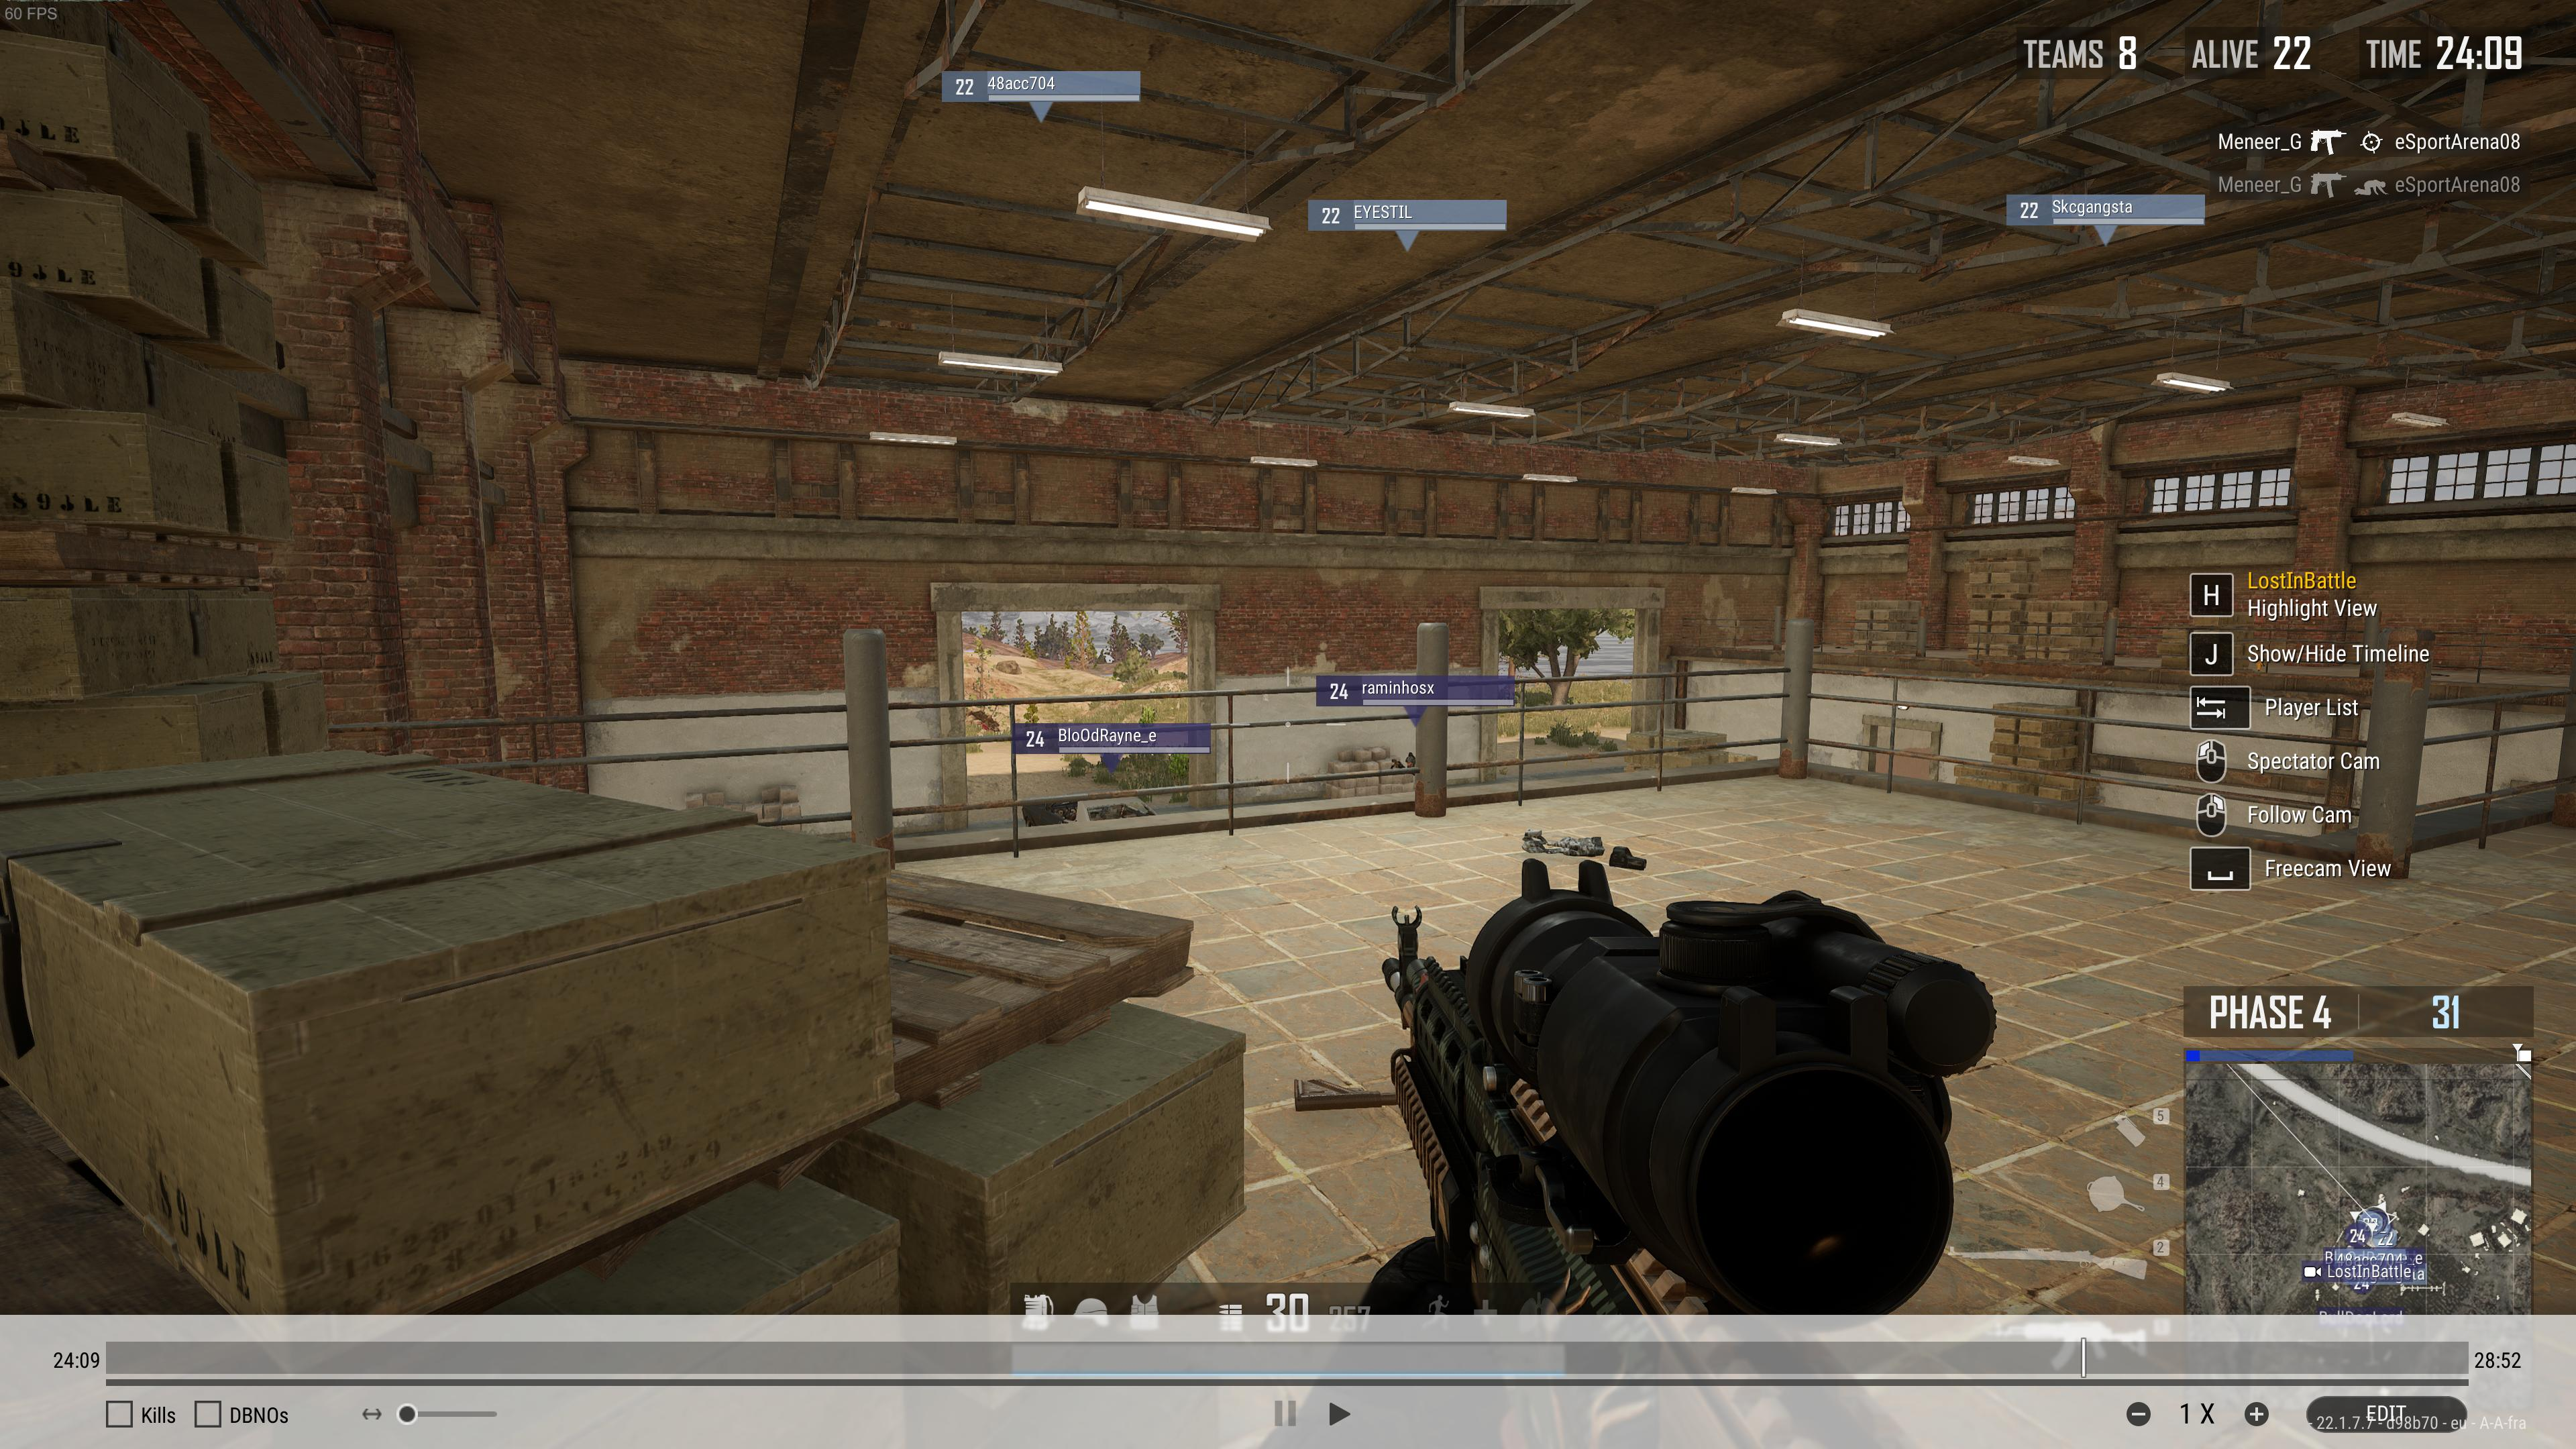enemy_head: (1405, 755, 1415, 767)
